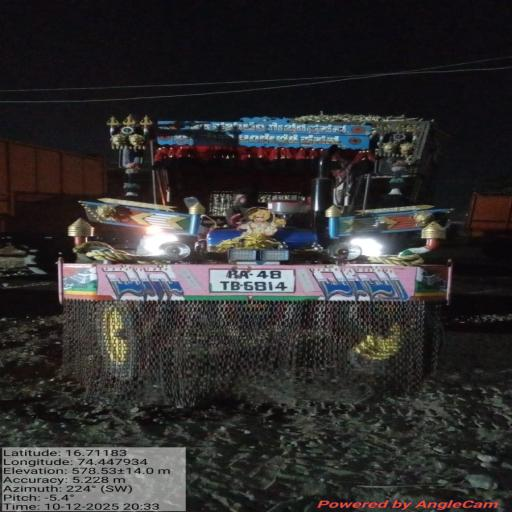number_plate: (203, 263, 306, 298)
